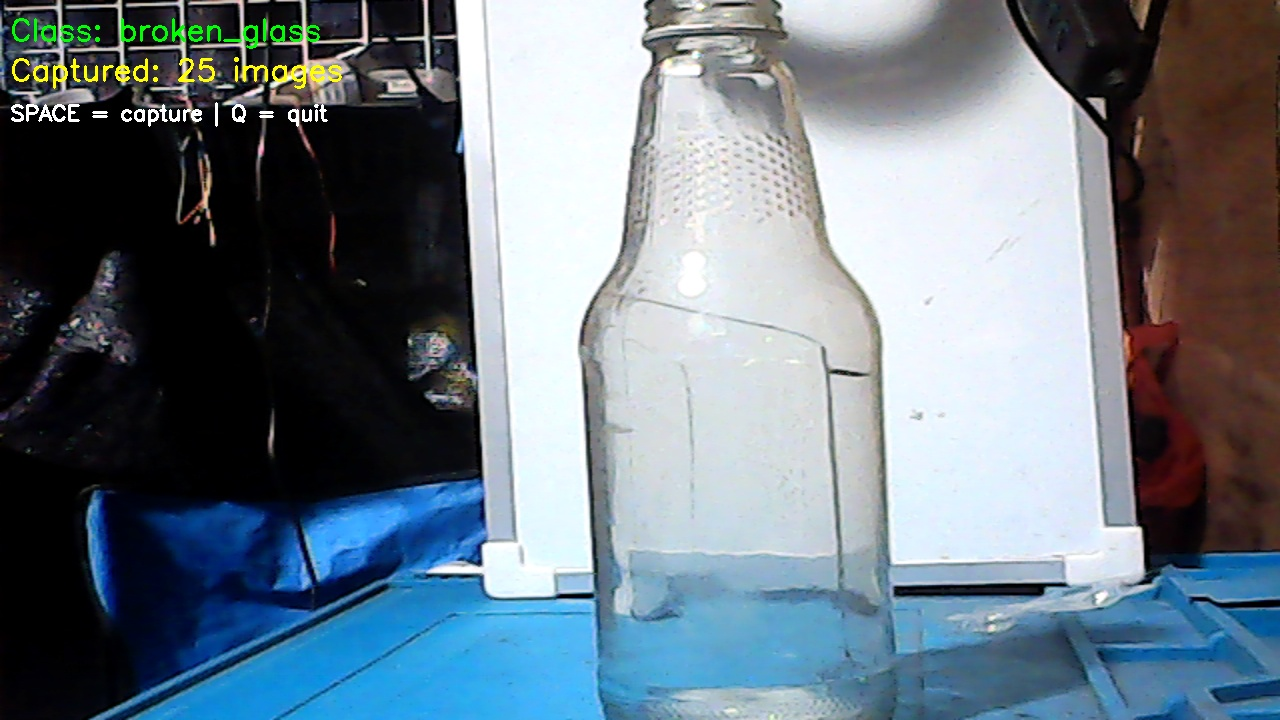broken_glass: (554, 5, 901, 718)
